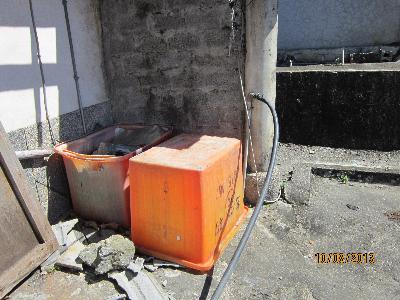box: (128, 133, 252, 273), (54, 121, 177, 227)
